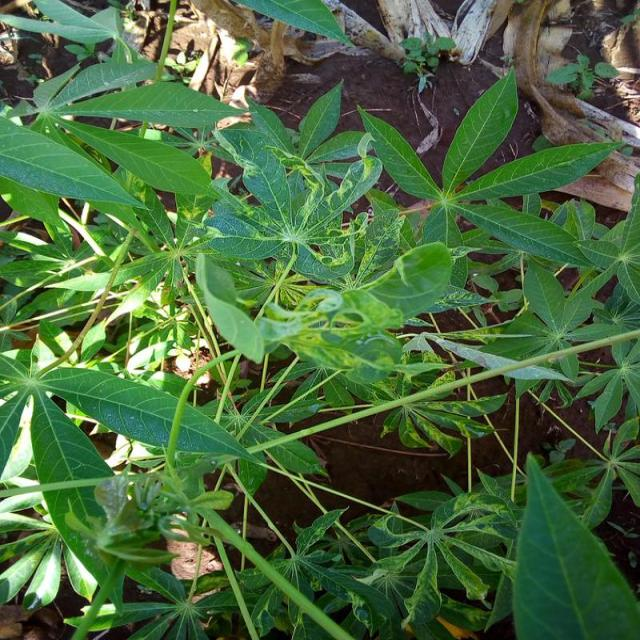cassava leaf: (512, 450, 638, 638)
